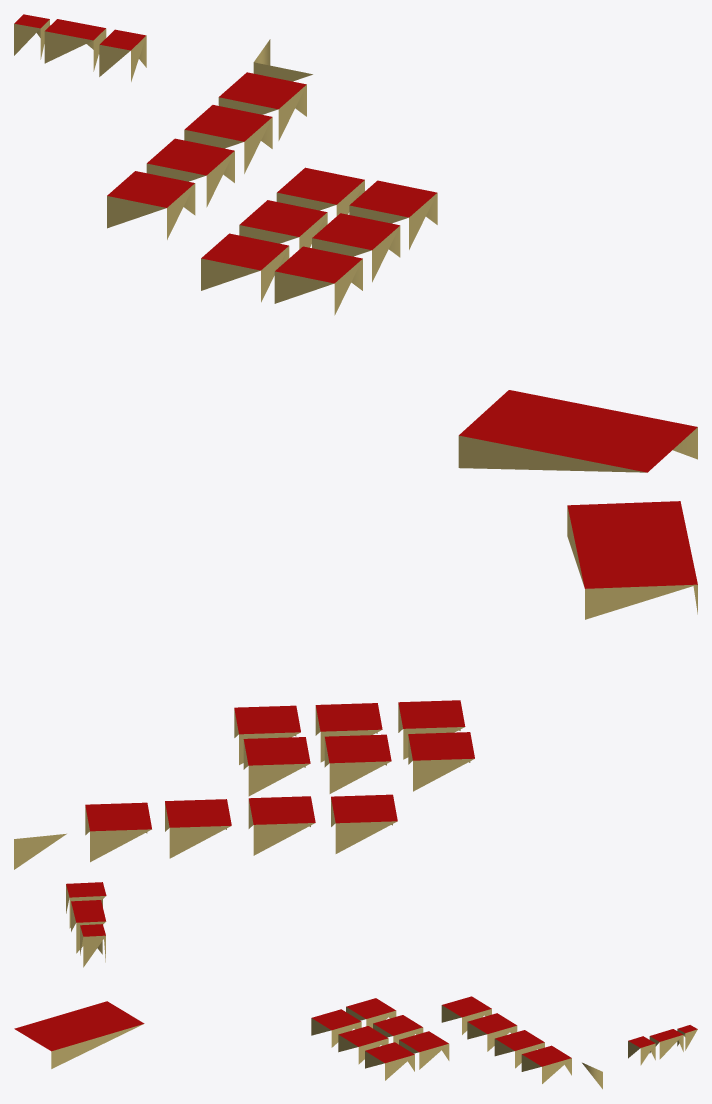
3 renders of one model, top to bottom at view 1: azimuth 30°, elevation 25°; view 2: azimuth 150°, elevation 25°; view 3: azimuth 270°, elevation 25°, orthographic. The views are drawn at different scales.
Bounding box in the file's own units: 68.12 × 7.5 × 261.
